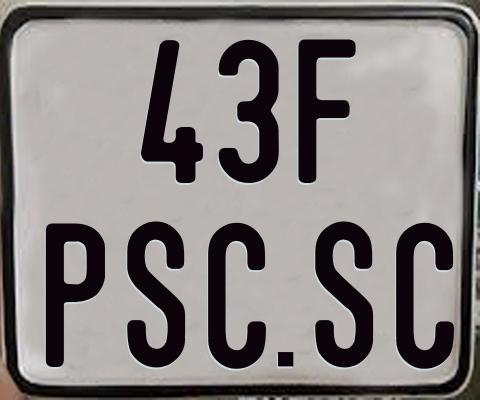3: (218, 39, 278, 182)
4: (139, 40, 204, 184)
C: (393, 220, 456, 372), (208, 222, 268, 372)
F: (297, 38, 360, 183)
P: (44, 222, 106, 370)
S: (312, 221, 375, 374), (126, 220, 185, 372)
